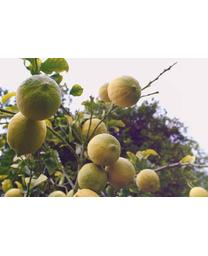lemon: (16, 75, 63, 120), (6, 111, 47, 153), (108, 76, 142, 108), (104, 156, 136, 188), (89, 134, 121, 165), (77, 162, 110, 191), (136, 169, 159, 191)
